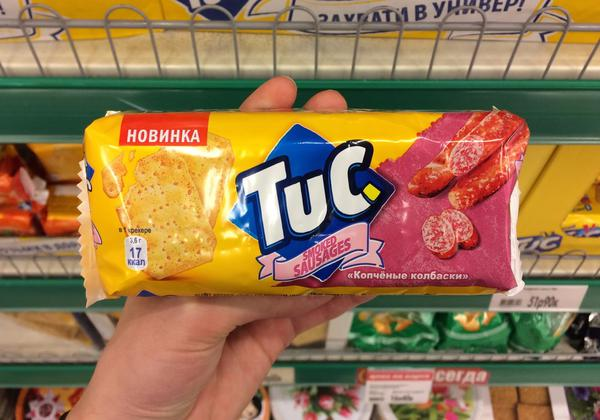crackers tuc: (89, 116, 515, 288)
